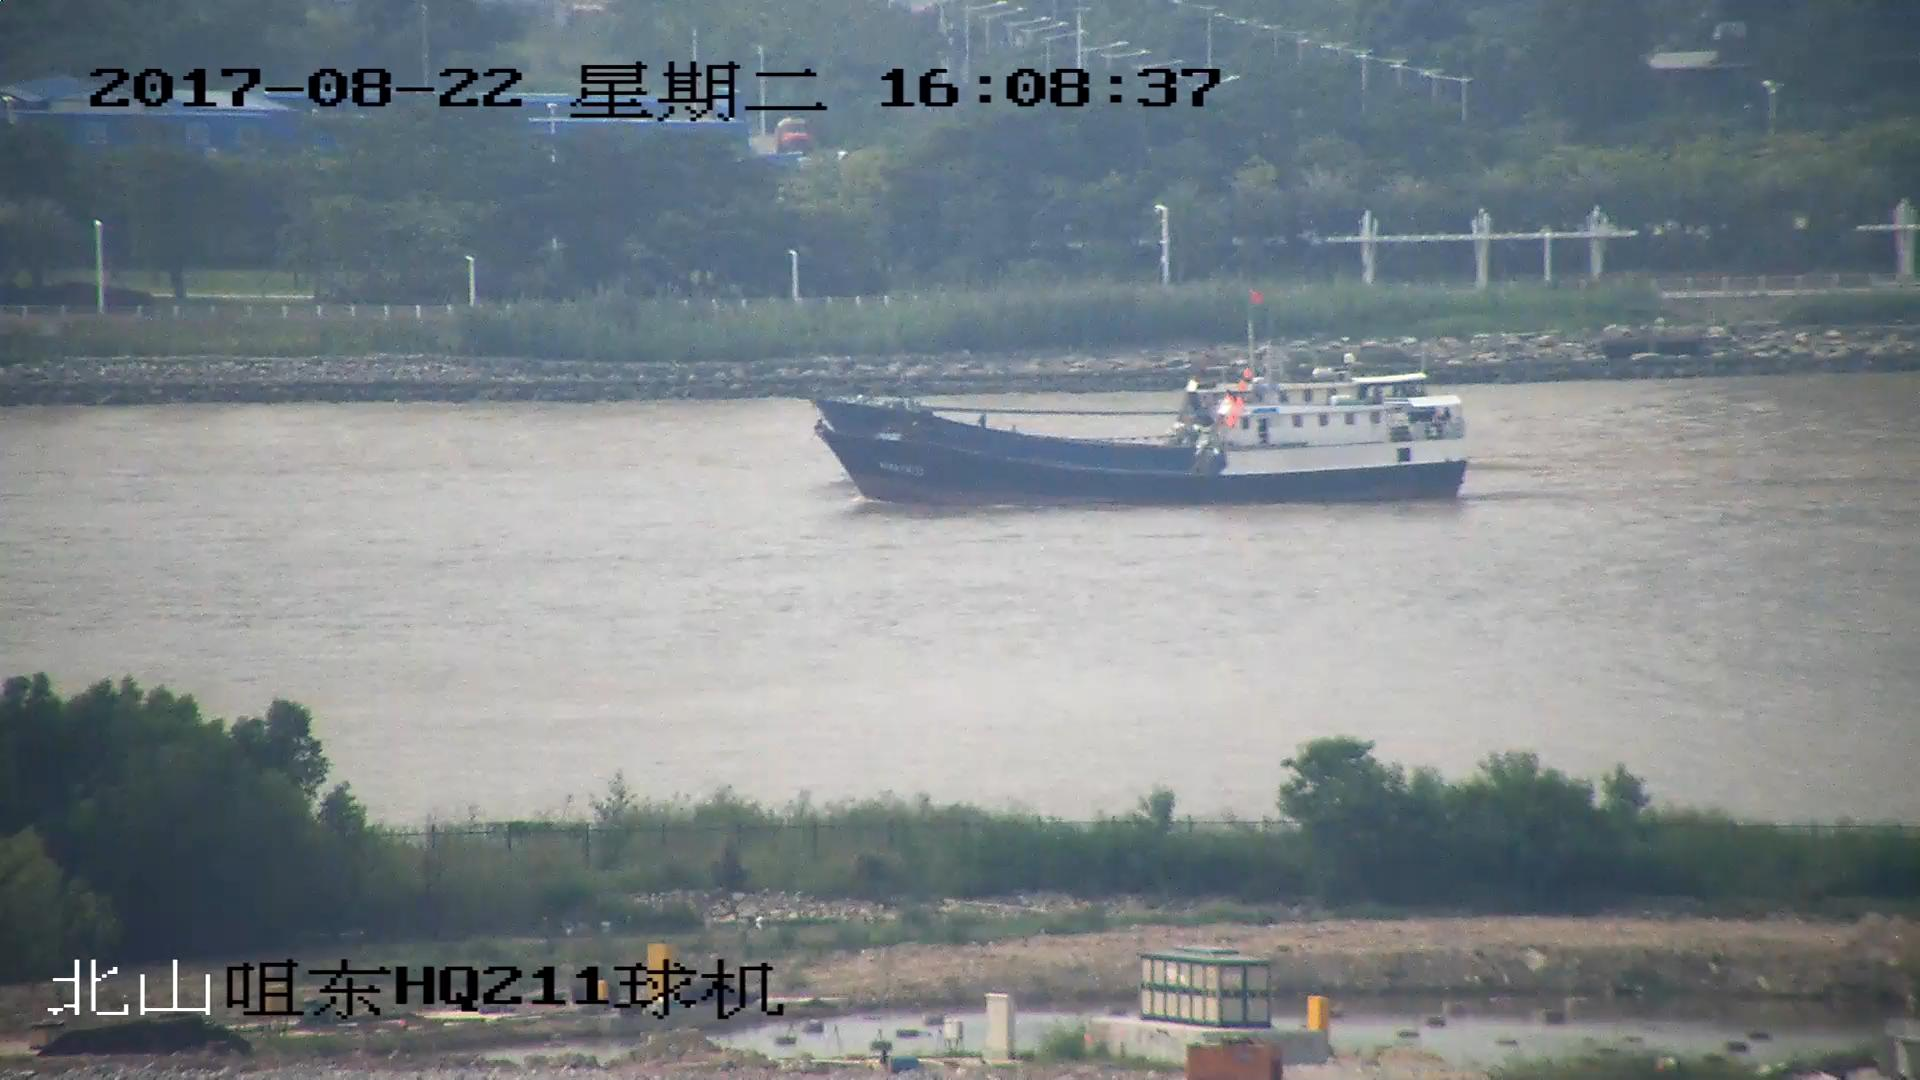fishing boat: (814, 284, 1450, 471), (821, 365, 1470, 508)
